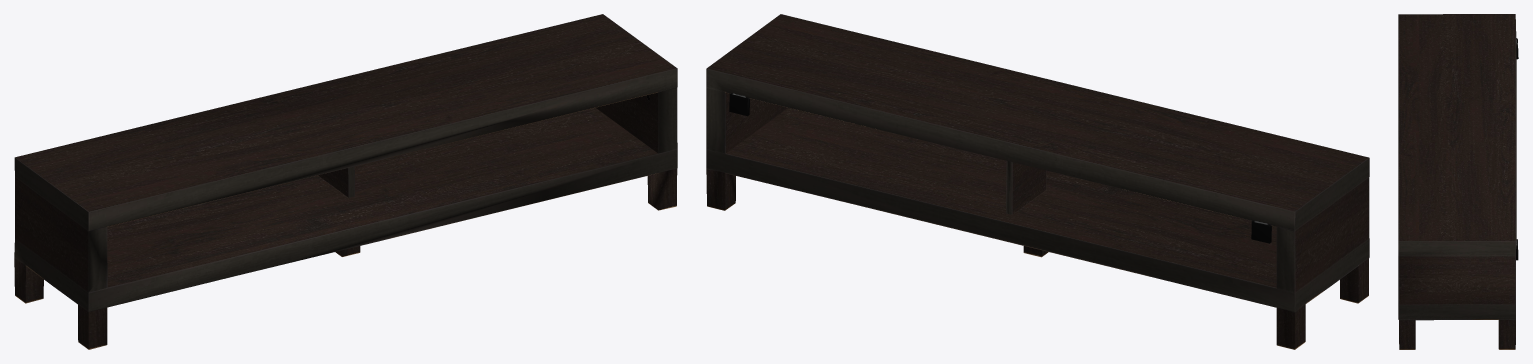
File: storage-14.glb
The picture shows the model from 3 angles, left to right: view 1: azimuth 30°, elevation 25°; view 2: azimuth 150°, elevation 25°; view 3: azimuth 270°, elevation 25°; orthographic projection. The views are drawn at different scales.
Parts seen in each view (by area): view 1: ProcessedMeshNode; view 2: ProcessedMeshNode; view 3: ProcessedMeshNode.
Boxes of the visible parts, x1,y1,x2,y2 form: ProcessedMeshNode: (14, 14, 677, 349); ProcessedMeshNode: (706, 14, 1369, 349); ProcessedMeshNode: (1398, 14, 1518, 349).
Size of the model in its own units: 1.6 by 0.3607 by 0.3581.
1 material, 1 textured.
